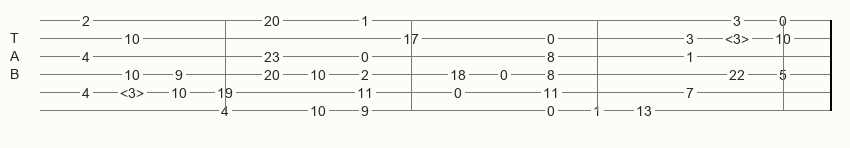0: (361, 49, 373, 63), (454, 85, 466, 99), (500, 67, 512, 81), (547, 31, 559, 45), (547, 103, 559, 117), (779, 13, 791, 27)
1: (361, 13, 373, 27), (593, 103, 605, 117), (686, 49, 698, 63)
10: (124, 67, 144, 81), (124, 31, 144, 45), (171, 85, 191, 99), (310, 103, 330, 117), (310, 67, 330, 81), (775, 31, 795, 45)
11: (357, 85, 377, 99), (543, 85, 563, 99)
13: (636, 103, 656, 117)
17: (403, 31, 423, 45)
18: (450, 67, 470, 81)
19: (217, 85, 237, 99)
2: (82, 13, 94, 27), (361, 67, 373, 81)
20: (264, 13, 284, 27), (264, 67, 284, 81)
22: (729, 67, 749, 81)
23: (264, 49, 284, 63)
3: (686, 31, 698, 45), (733, 13, 745, 27)
4: (82, 49, 94, 63), (82, 85, 94, 99), (221, 103, 233, 117)
5: (779, 67, 791, 81)
7: (686, 85, 698, 99)
8: (547, 49, 559, 63), (547, 67, 559, 81)
9: (175, 67, 187, 81), (361, 103, 373, 117)
harmonic: (120, 85, 148, 99), (725, 31, 753, 45)
